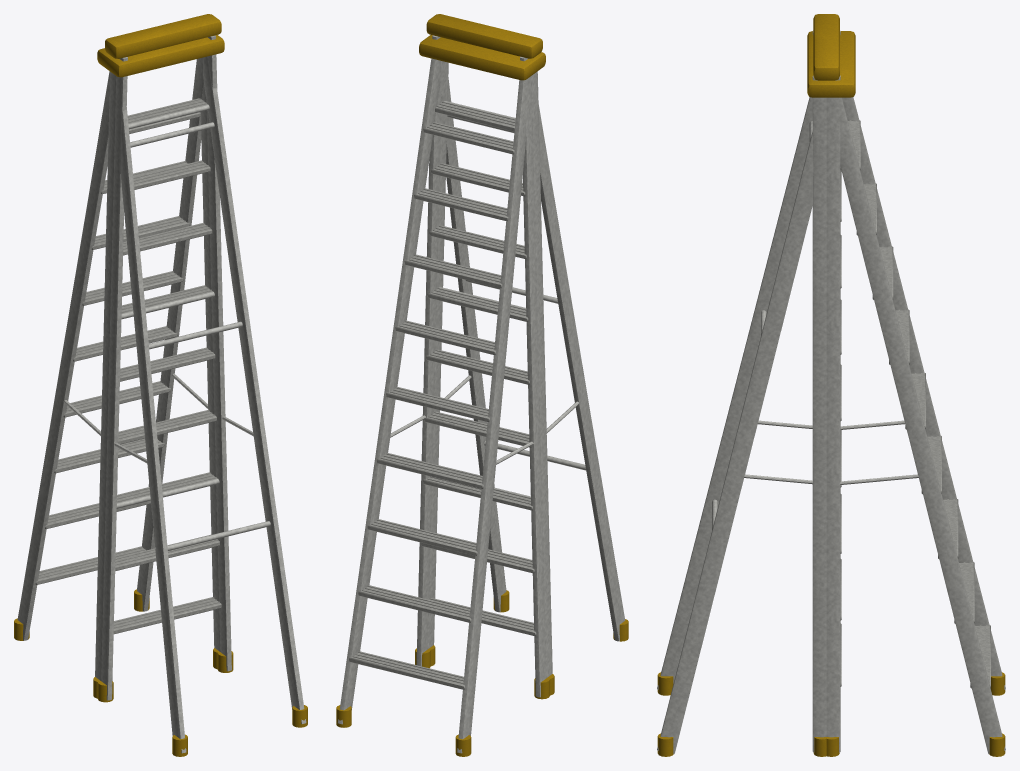
Rendered from ladder.glb.
3 renders of one model, left to right at view 1: azimuth 30°, elevation 25°; view 2: azimuth 150°, elevation 25°; view 3: azimuth 270°, elevation 25°, orthographic. The views are drawn at different scales.
Parts seen in each view (by area): view 1: Ladder_Open_rails, Ladder_Closed_rails, Ladder_Closed_steps, Ladder_Open_steps, Ladder_Closed_cap, Ladder_Open_cap, Ladder_Open_feet, Ladder_Closed_feet; view 2: Ladder_Open_rails, Ladder_Closed_rails, Ladder_Open_steps, Ladder_Closed_steps, Ladder_Open_cap, Ladder_Closed_cap, Ladder_Open_feet, Ladder_Closed_feet; view 3: Ladder_Open_rails, Ladder_Closed_rails, Ladder_Open_steps, Ladder_Open_cap, Ladder_Closed_cap, Ladder_Open_feet, Ladder_Closed_steps.
Part boxes in pixels (left/top/right/bottom): Ladder_Open_rails: left=17, top=56, right=306, bottom=753; Ladder_Closed_rails: left=95, top=35, right=231, bottom=700; Ladder_Closed_steps: left=113, top=98, right=221, bottom=634; Ladder_Open_steps: left=35, top=112, right=200, bottom=584; Ladder_Closed_cap: left=105, top=14, right=221, bottom=58; Ladder_Open_cap: left=97, top=35, right=224, bottom=77; Ladder_Open_feet: left=14, top=589, right=307, bottom=756; Ladder_Closed_feet: left=93, top=648, right=233, bottom=702; Ladder_Open_rails: left=338, top=58, right=625, bottom=753; Ladder_Closed_rails: left=416, top=35, right=552, bottom=697; Ladder_Open_steps: left=349, top=122, right=514, bottom=689; Ladder_Closed_steps: left=421, top=101, right=536, bottom=636; Ladder_Open_cap: left=419, top=35, right=545, bottom=80; Ladder_Closed_cap: left=426, top=14, right=542, bottom=58; Ladder_Open_feet: left=336, top=590, right=628, bottom=756; Ladder_Closed_feet: left=415, top=645, right=554, bottom=699; Ladder_Open_rails: left=657, top=97, right=1005, bottom=753; Ladder_Closed_rails: left=812, top=30, right=840, bottom=752; Ladder_Open_steps: left=840, top=120, right=990, bottom=688; Ladder_Open_cap: left=807, top=31, right=855, bottom=97; Ladder_Closed_cap: left=813, top=14, right=839, bottom=80; Ladder_Open_feet: left=657, top=672, right=1005, bottom=756; Ladder_Closed_steps: left=840, top=171, right=841, bottom=686.
Bounding box in the file's own units: 0.668 × 3.13 × 1.45.
3 materials, 3 textured.
